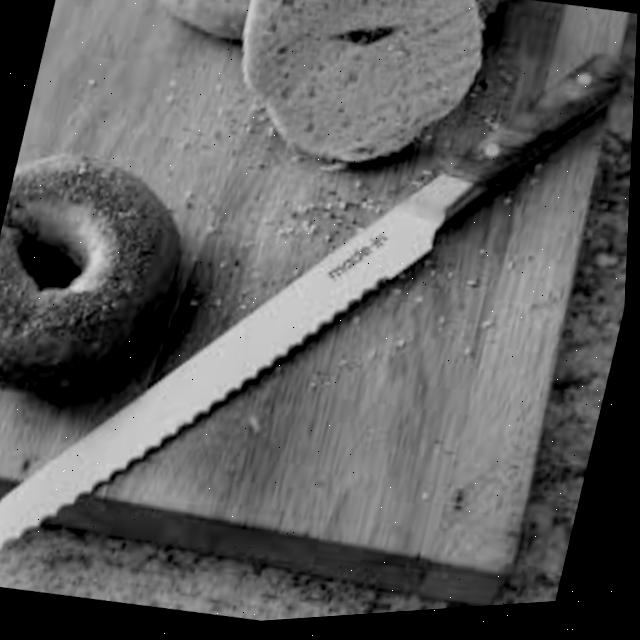knife: (0, 0, 633, 640)
